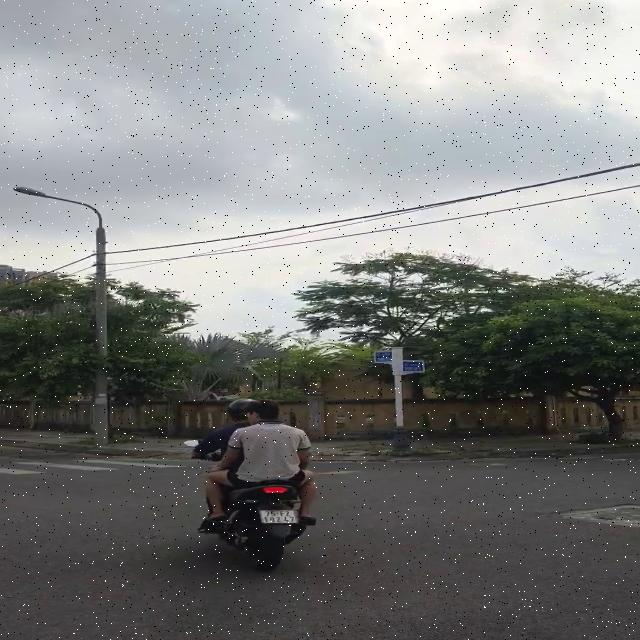helmet: (227, 398, 254, 421)
no_helmet: (250, 398, 290, 427)
